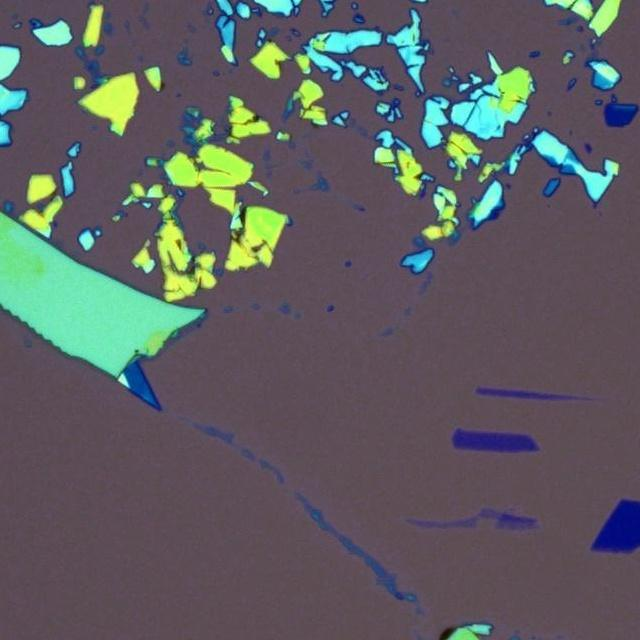monolayer-eWW4: (402, 504, 498, 530), (498, 520, 532, 531)
